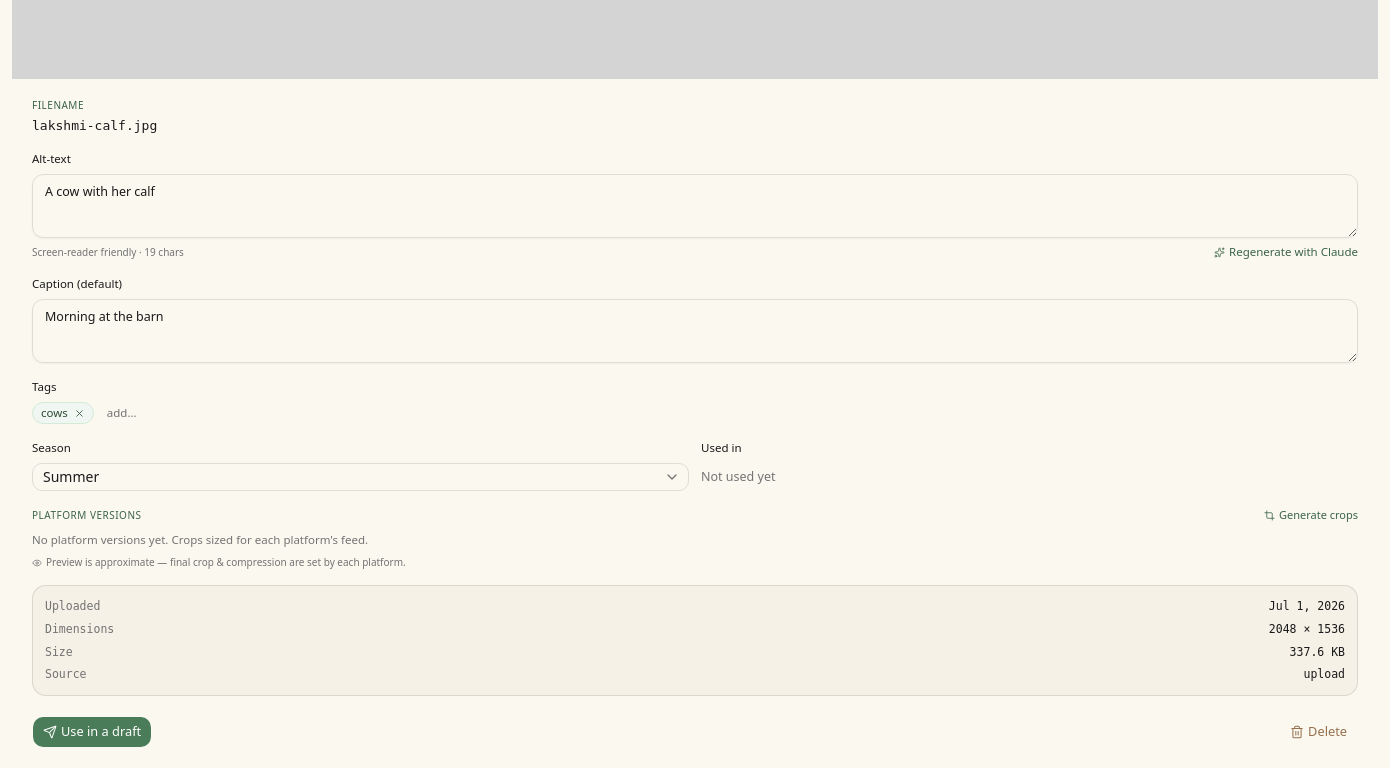
Test: MediaInspector › renders both chips (no duplicate keys) for two rapid optimistic tag adds
The image size is (1390, 768).
(page scrolled)
Expected: the text "Filename" is shown, [32, 98, 84, 112]
Step 1. Type "barn" into the field named "Add tag" → (132, 413), box [100, 402, 164, 424]
Then press Enter
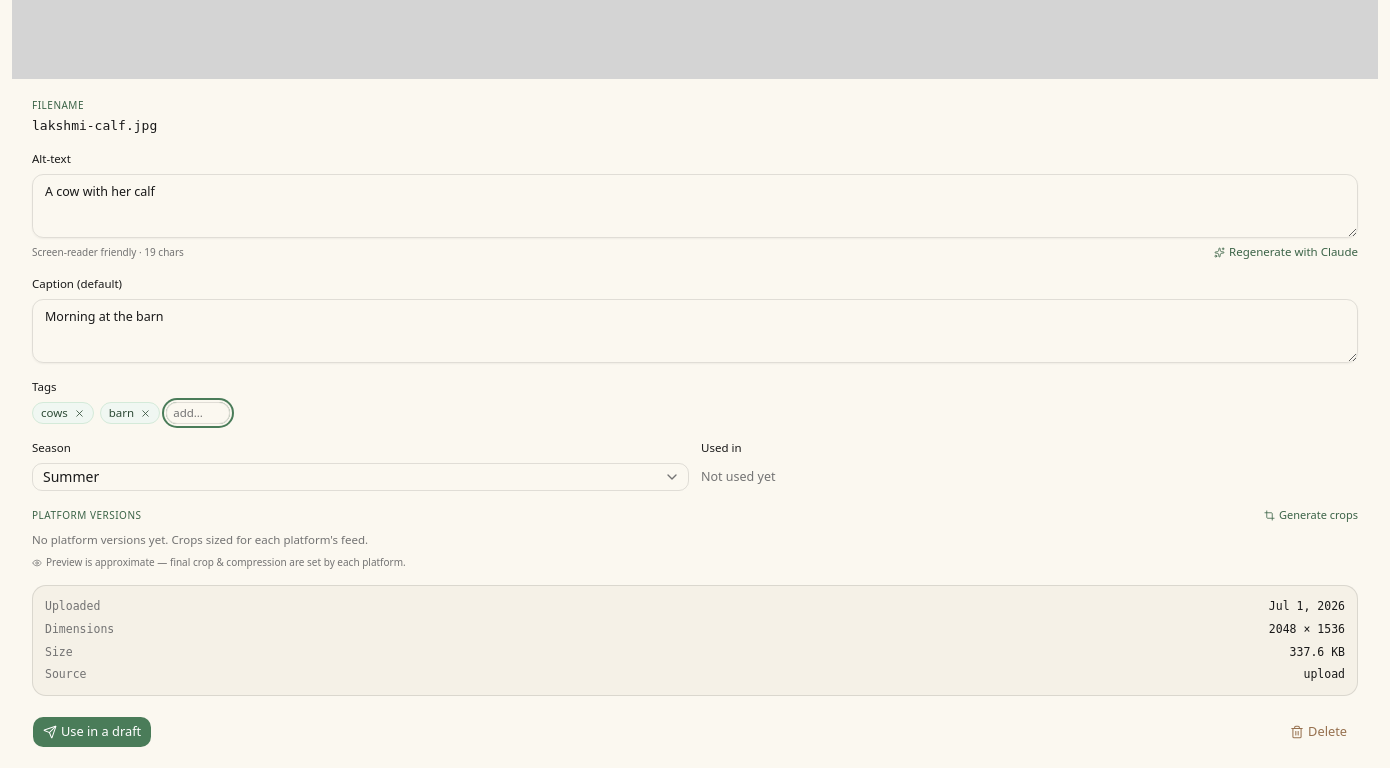
Step 2. Type "hay" into the field named "Add tag" → (198, 413), box [166, 402, 230, 424]
Then press Enter
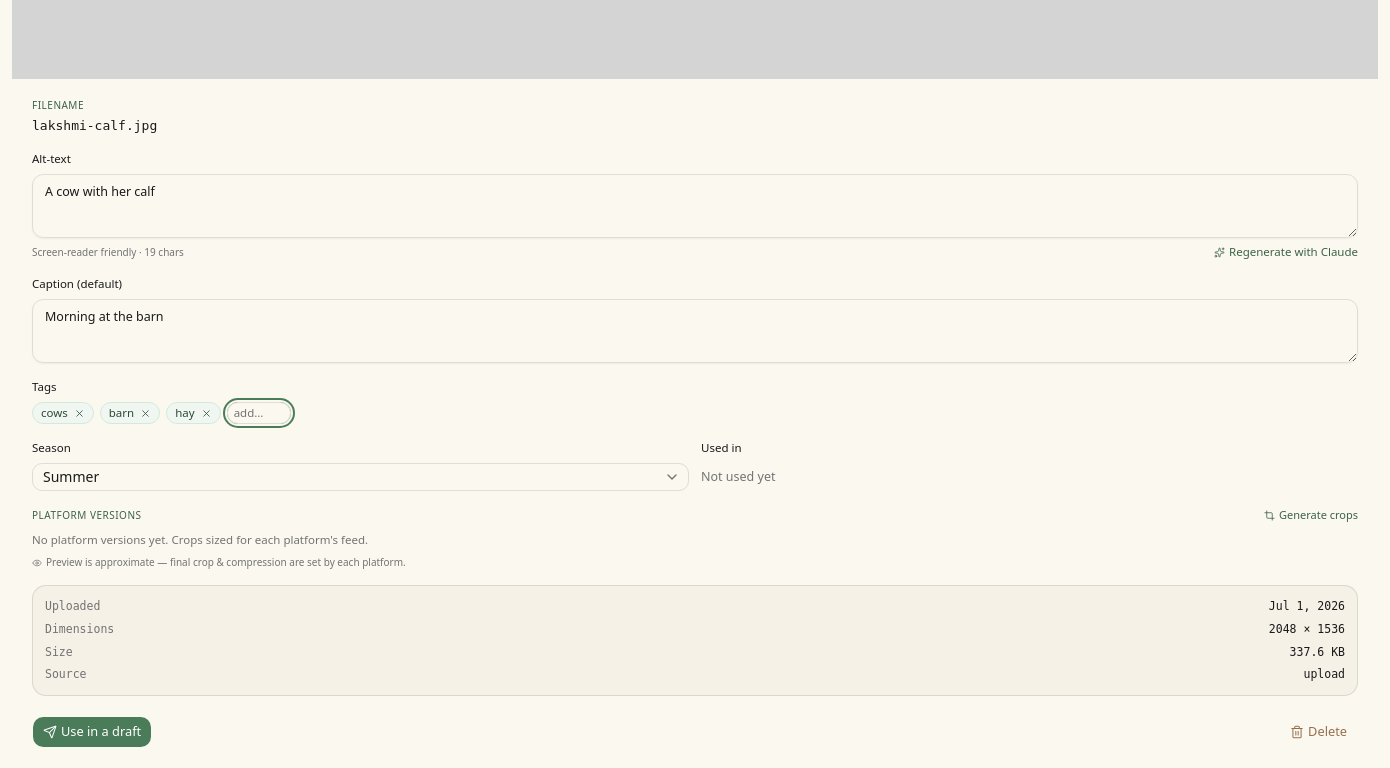
Expected: the text "barn" is shown, [100, 402, 160, 424]
Expected: the text "hay" is shown, [166, 402, 221, 424]
